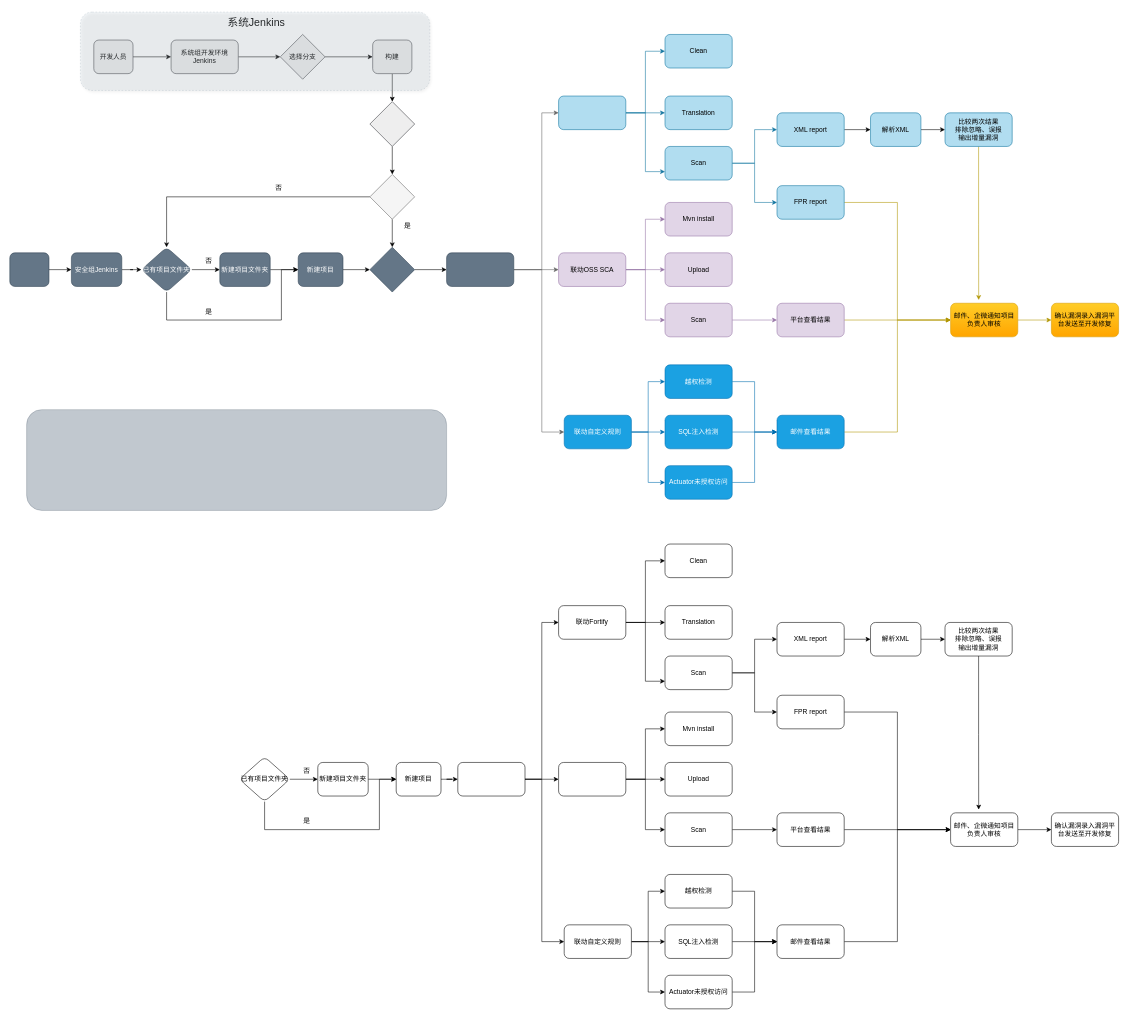
Image size: 1128x1019. Some labels were removed from this diagram. The shapes that lost their labels are listed below. From the top down, each one's centre as x and y in pixels, then its label:
At point (392, 123): "监听获取 分支".
At point (592, 112): "联动Fortify SCA".
At point (392, 196): "已有项目".
At point (29, 269): "安全人员".
At point (392, 269): "远程构建".
At point (480, 269): "Git clone".
At point (491, 779): "Git clone webhook: push events".
At point (592, 779): "联动SCA".
